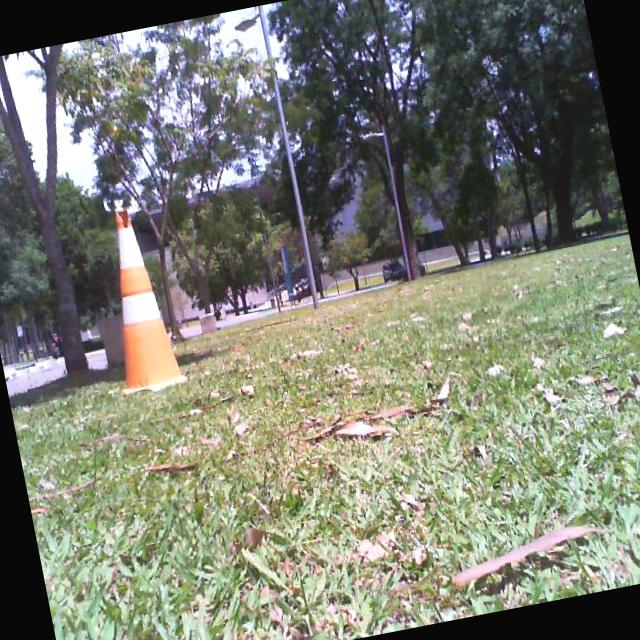Cone: (87, 202, 189, 398)
